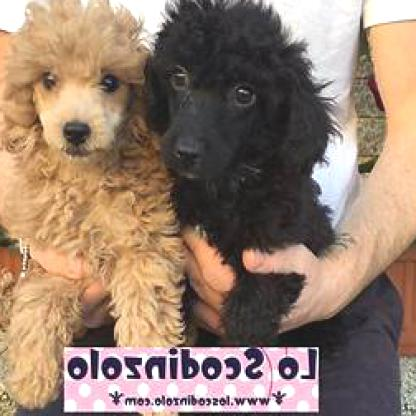dog: (137, 0, 333, 349), (1, 0, 187, 348)
